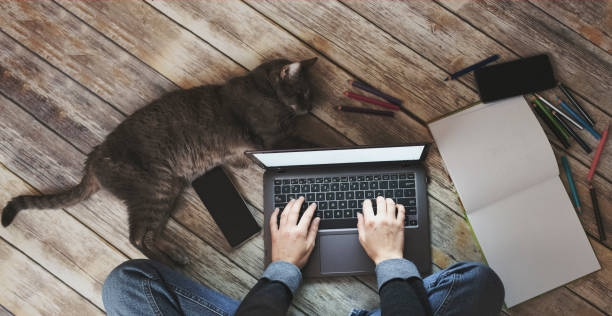keyboard: (272, 171, 418, 229)
laptop: (245, 143, 434, 281)
phone: (192, 166, 261, 248), (473, 54, 556, 105)
